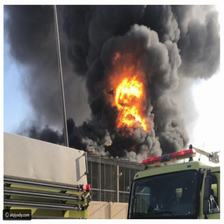fire: (61, 10, 195, 151)
